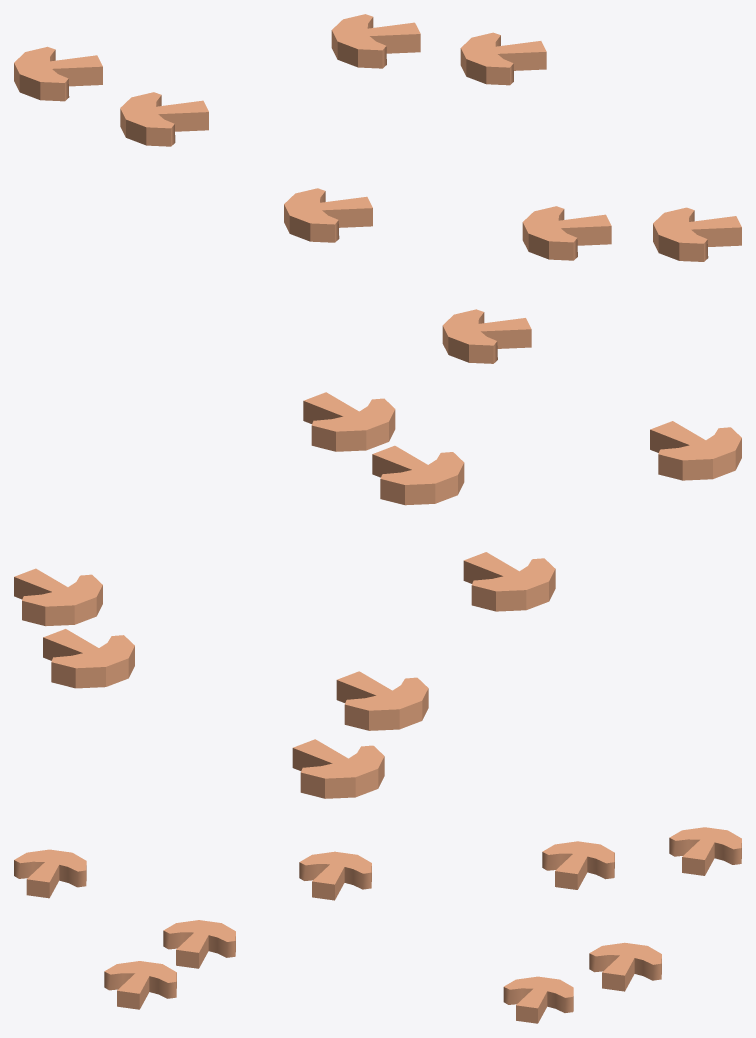
The model's file is tuna.glb.
3 views of the same model, one above another, from view 1: azimuth 30°, elevation 25°; view 2: azimuth 150°, elevation 25°; view 3: azimuth 270°, elevation 25° (orthographic). The views are drawn at different scales.
Parts seen in each view (by area): view 1: Mushroom, Mushroom_MushroomMat_0.004, Mushroom_MushroomMat_0.003, Mushroom_MushroomMat_0.002, Mushroom_MushroomMat_0.006, Mushroom_MushroomMat_0.005, Mushroom_MushroomMat_0.001, Mushroom_MushroomMat_0.007; view 2: Mushroom_MushroomMat_0.005, Mushroom_MushroomMat_0.006, Mushroom_MushroomMat_0.001, Mushroom_MushroomMat_0.002, Mushroom_MushroomMat_0.004, Mushroom, Mushroom_MushroomMat_0.003, Mushroom_MushroomMat_0.007; view 3: Mushroom, Mushroom_MushroomMat_0.006, Mushroom_MushroomMat_0.003, Mushroom_MushroomMat_0.002, Mushroom_MushroomMat_0.004, Mushroom_MushroomMat_0.001, Mushroom_MushroomMat_0.005, Mushroom_MushroomMat_0.007.
Boxes of the visible parts, x1,y1,x2,y2 form: Mushroom: (442,309,531,363); Mushroom_MushroomMat_0.004: (522,206,611,260); Mushroom_MushroomMat_0.003: (331,14,420,68); Mushroom_MushroomMat_0.002: (14,46,102,101); Mushroom_MushroomMat_0.006: (120,92,208,146); Mushroom_MushroomMat_0.005: (284,188,372,242); Mushroom_MushroomMat_0.001: (653,207,741,261); Mushroom_MushroomMat_0.007: (460,32,546,85); Mushroom_MushroomMat_0.005: (463,552,555,611); Mushroom_MushroomMat_0.006: (336,671,428,730); Mushroom_MushroomMat_0.001: (303,392,395,451); Mushroom_MushroomMat_0.002: (292,739,384,798); Mushroom_MushroomMat_0.004: (372,445,464,505); Mushroom: (650,421,741,480); Mushroom_MushroomMat_0.003: (43,629,134,688); Mushroom_MushroomMat_0.007: (14,568,102,626); Mushroom: (14,849,86,898); Mushroom_MushroomMat_0.006: (542,841,614,889); Mushroom_MushroomMat_0.003: (589,942,661,991); Mushroom_MushroomMat_0.002: (669,827,741,875); Mushroom_MushroomMat_0.004: (163,920,235,968); Mushroom_MushroomMat_0.001: (104,961,176,1009); Mushroom_MushroomMat_0.005: (299,851,371,900); Mushroom_MushroomMat_0.007: (503,976,573,1023).
Bounding box in the file's own units: 0.9188 × 0.0377 × 1.56.
